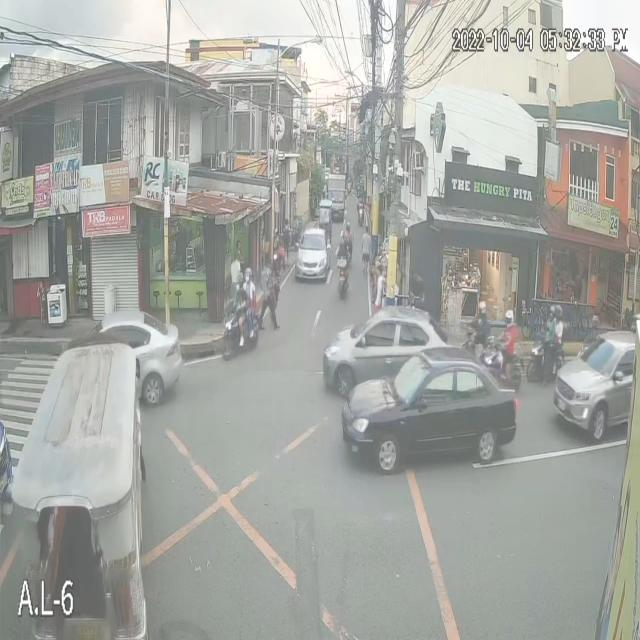Full-Faced: (501, 307, 516, 331), (477, 296, 492, 318), (345, 220, 354, 243), (242, 265, 253, 283), (549, 303, 557, 323), (236, 269, 244, 288), (557, 303, 565, 320)
